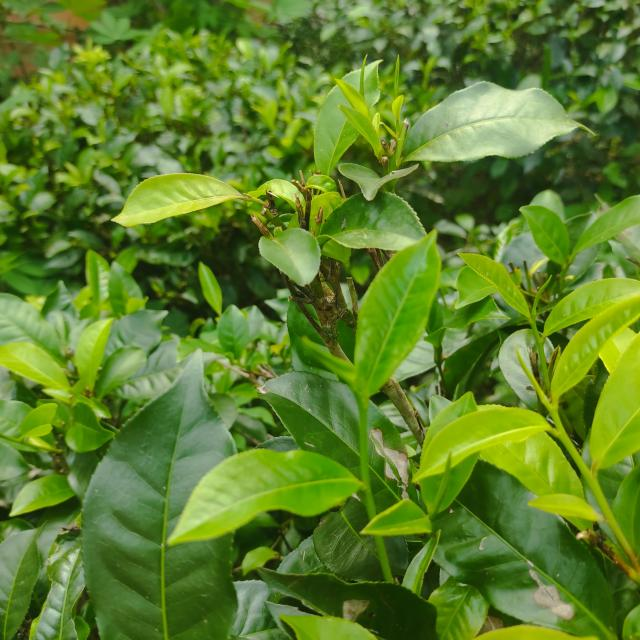unopened_leaf: (286, 326, 368, 394), (507, 341, 559, 417), (426, 446, 461, 520), (528, 267, 559, 322), (356, 49, 372, 100), (389, 51, 403, 105)
